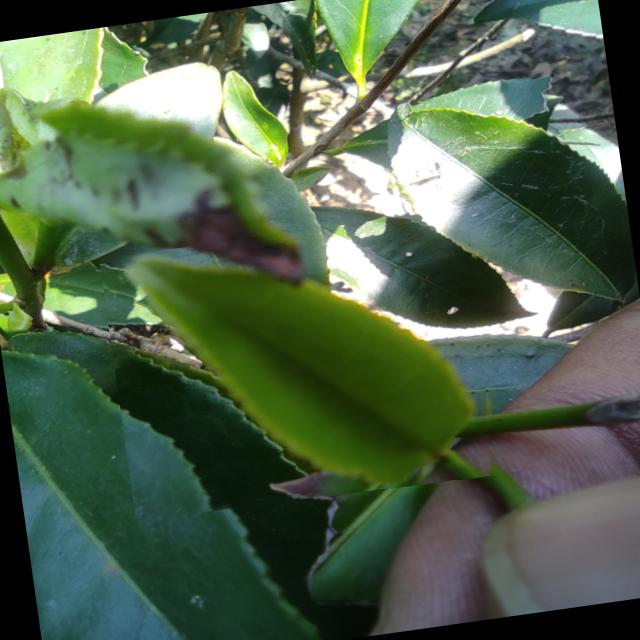Category C(4-7 days): (100, 207, 512, 526)
